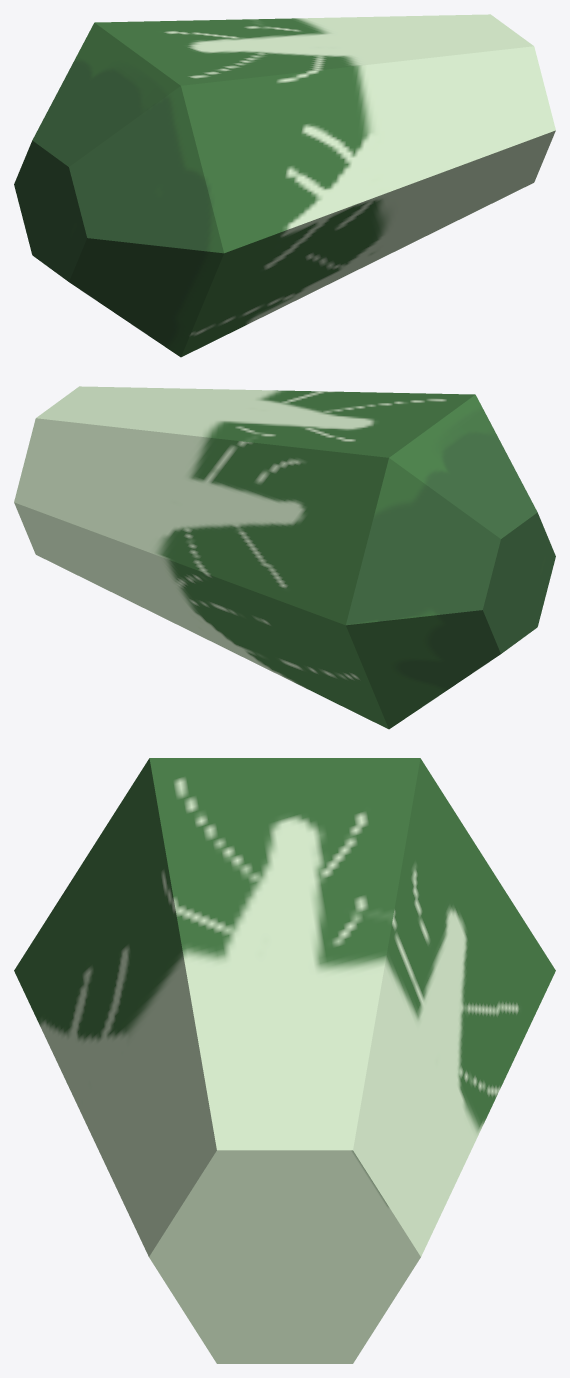
File: Pechay.fbx
The picture shows the model from 3 angles, top to bottom: view 1: azimuth 30°, elevation 25°; view 2: azimuth 150°, elevation 25°; view 3: azimuth 270°, elevation 25°; orthographic projection. The views are drawn at different scales.
Parts seen in each view (by area): view 1: Pechay; view 2: Pechay; view 3: Pechay.
Part boxes in pixels (x1,y1,x2,y2): Pechay: (14, 14, 555, 357); Pechay: (14, 386, 555, 729); Pechay: (14, 758, 555, 1363).
Size of the model in its own units: 101 by 65.78 by 56.97.
